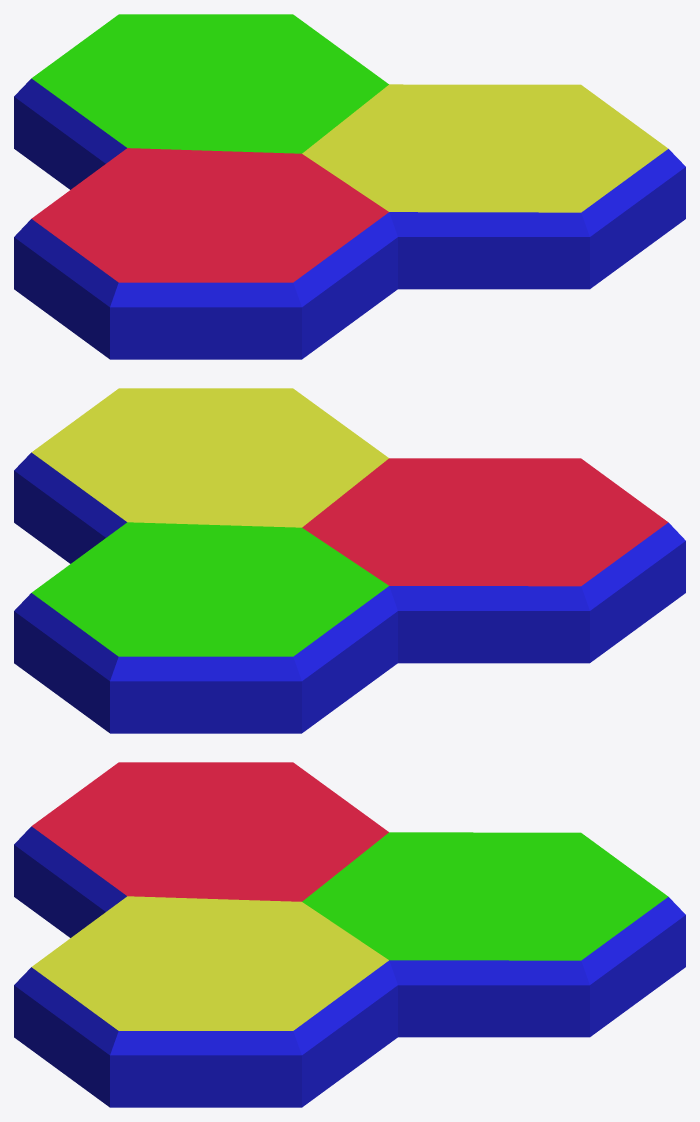
Rendered from HexPiece.fbx.
The picture shows the model from 3 angles, top to bottom: view 1: azimuth 30°, elevation 25°; view 2: azimuth 150°, elevation 25°; view 3: azimuth 270°, elevation 25°; orthographic projection.
Parts seen in each view (by area): view 1: Circle; view 2: Circle; view 3: Circle.
Boxes of the visible parts, x1=… form: Circle: x1=14, y1=14, x2=685, y2=359; Circle: x1=14, y1=388, x2=685, y2=733; Circle: x1=14, y1=762, x2=685, y2=1107.
Bounding box in the file's own units: 346 × 40.77 × 350.
